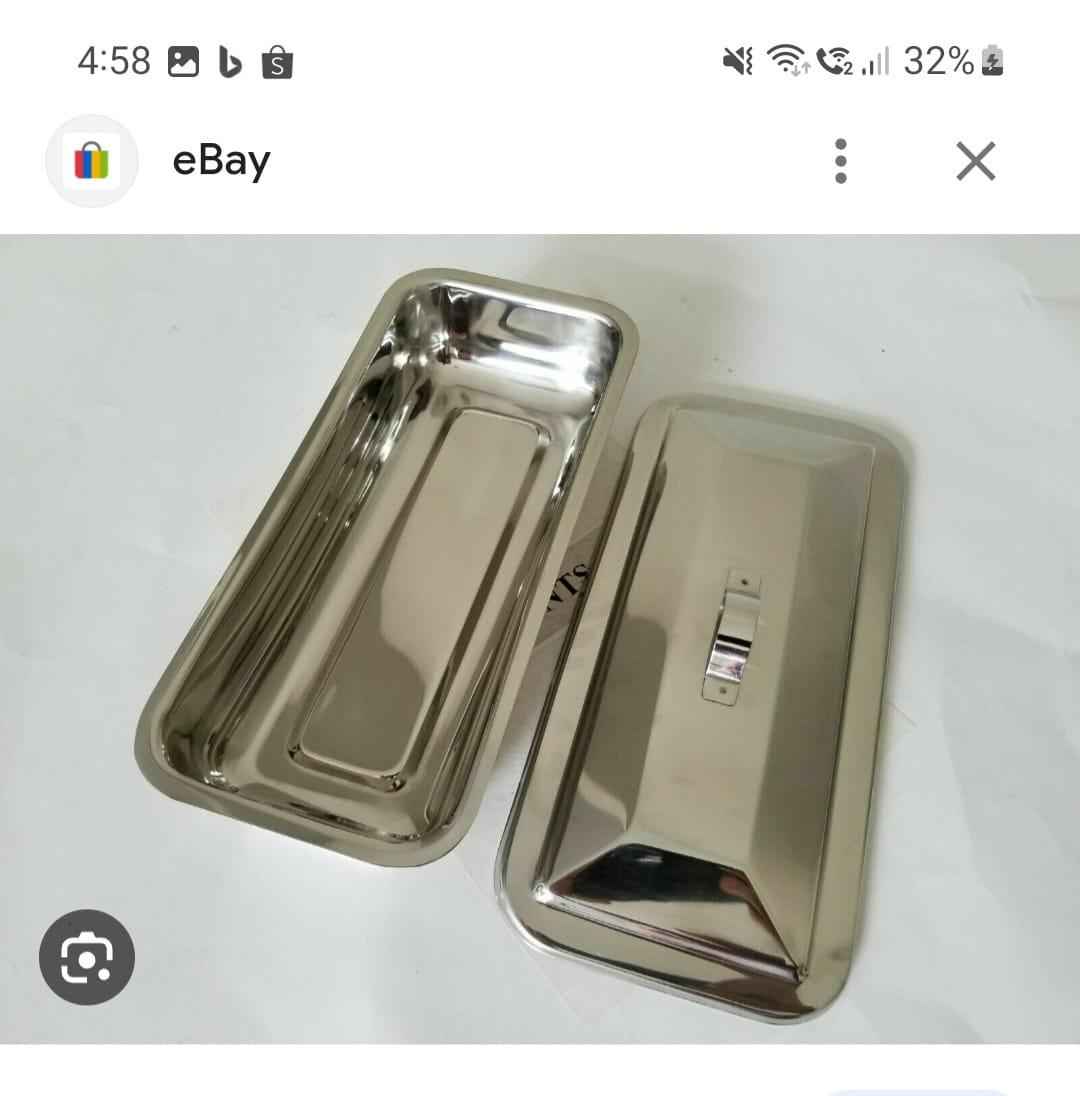Catheter Tray: (138, 265, 653, 868)
